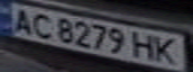2: (69, 19, 93, 48)
7: (87, 21, 109, 52)
8: (51, 16, 75, 45)
9: (106, 25, 130, 56)
A: (6, 6, 39, 35)
C: (27, 10, 57, 39)
H: (130, 30, 160, 61)
K: (151, 35, 184, 66)
